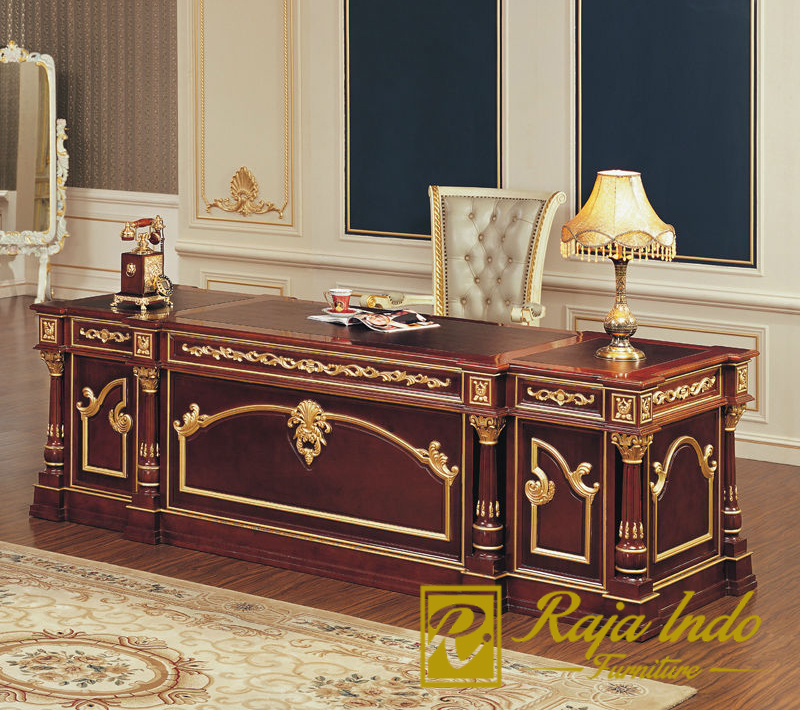Carving Table: (40, 264, 766, 636)
